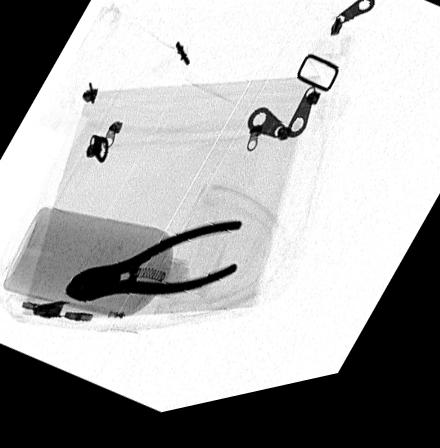Pliers: (61, 230, 241, 306)
